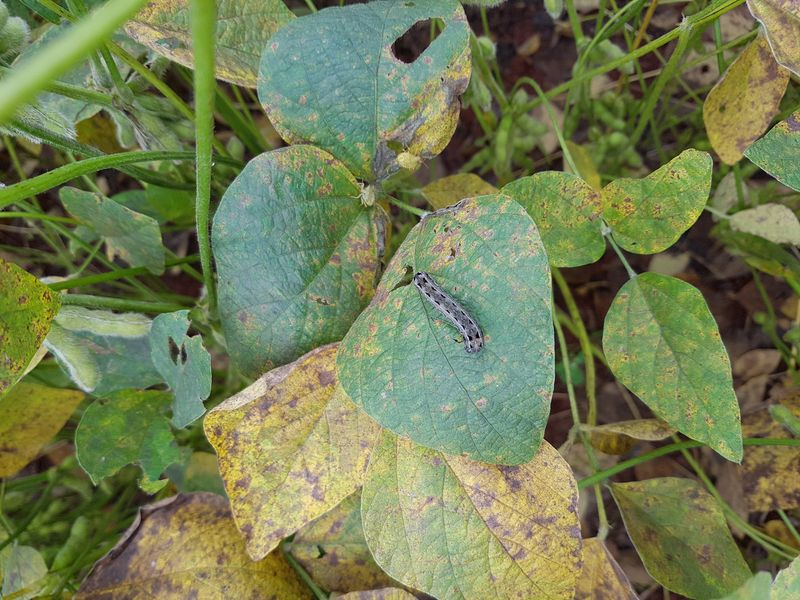Euschistus_heros_ninfa: (346, 175, 387, 215), (390, 144, 429, 178)
Spodoptera_albula: (397, 264, 499, 368)
